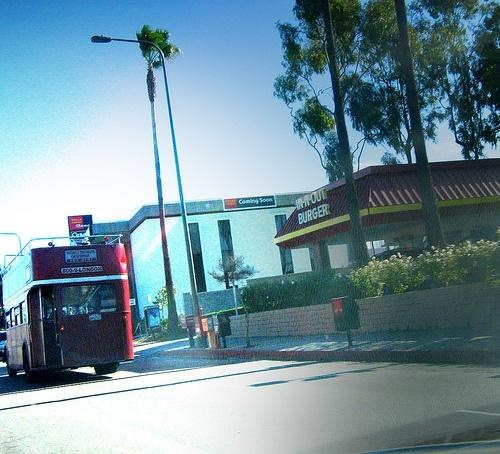bus: (3, 233, 136, 381)
